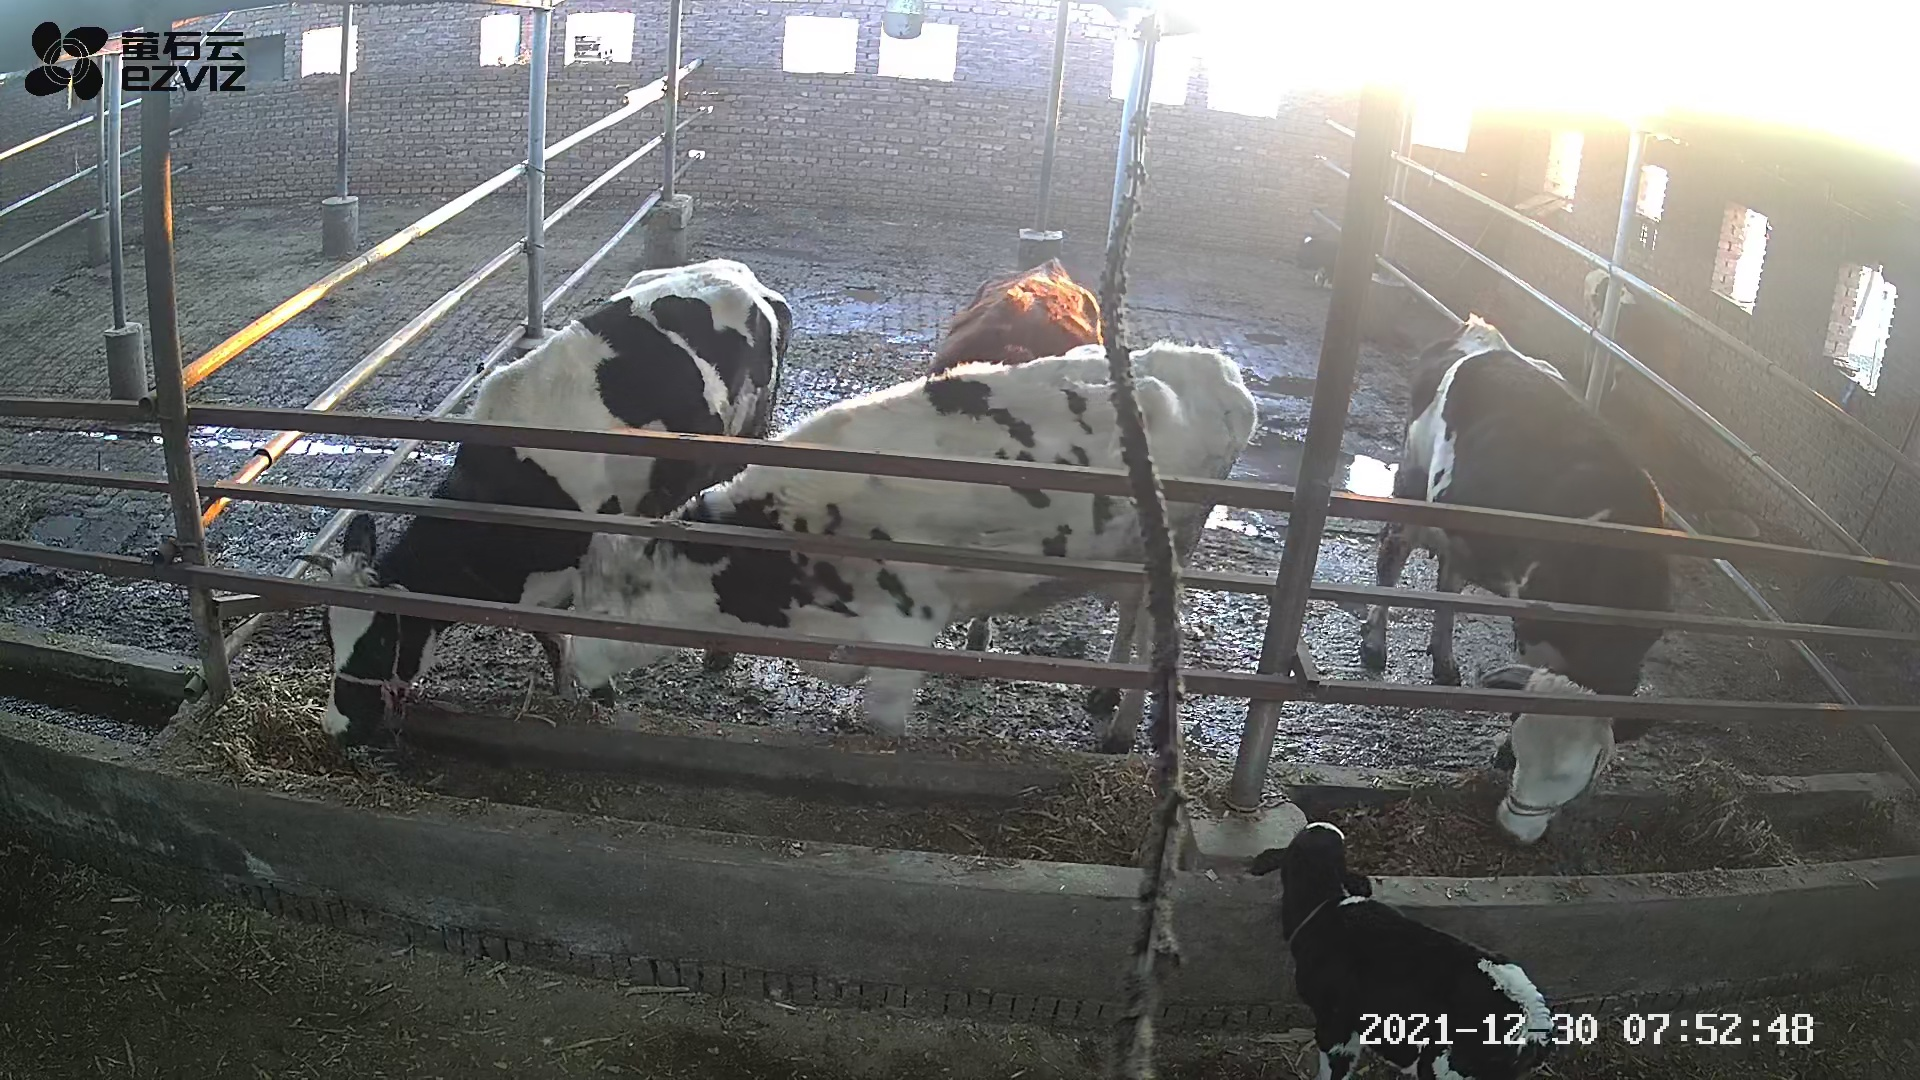cow: (554, 335, 1258, 757), (291, 256, 796, 752), (1358, 311, 1672, 848), (928, 257, 1102, 682)
